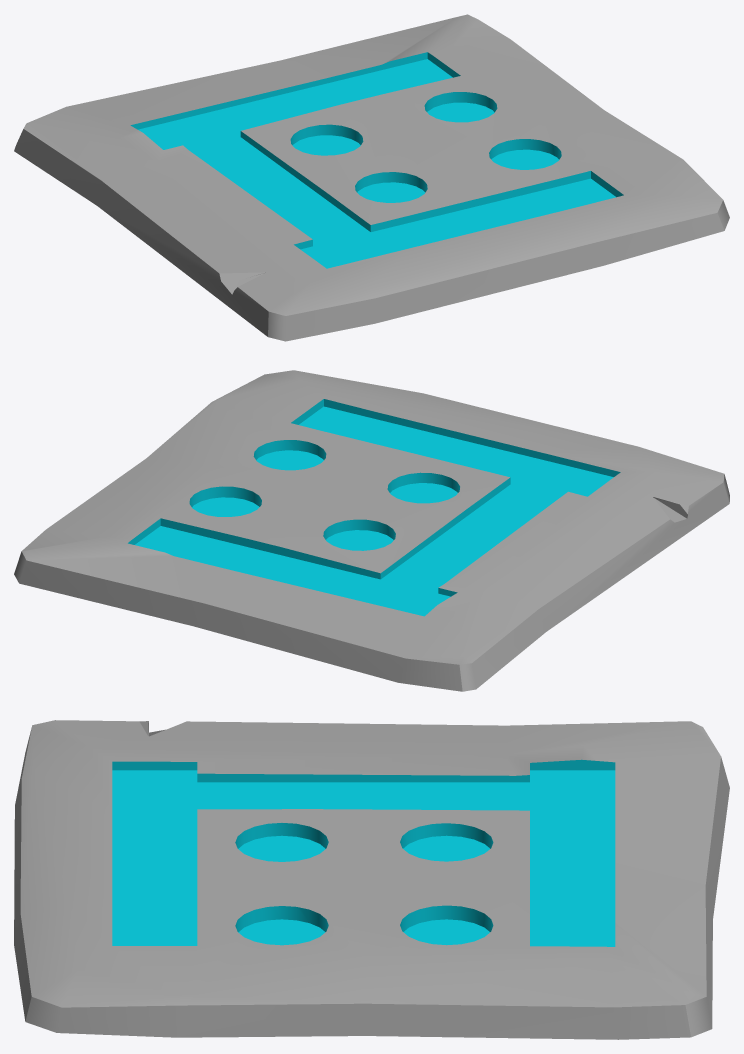
The model's file is dalle19.fbx.
The picture shows the model from 3 angles, top to bottom: view 1: azimuth 30°, elevation 25°; view 2: azimuth 150°, elevation 25°; view 3: azimuth 270°, elevation 25°; orthographic projection. The views are drawn at different scales.
Parts seen in each view (by area): view 1: pCube4; view 2: pCube4; view 3: pCube4.
Part boxes in pixels (x1,y1,x2,y2): pCube4: (14, 14, 729, 341); pCube4: (14, 370, 729, 691); pCube4: (14, 720, 729, 1039).
Bounding box in the file's own units: 6.99 × 0.4395 × 7.18.
